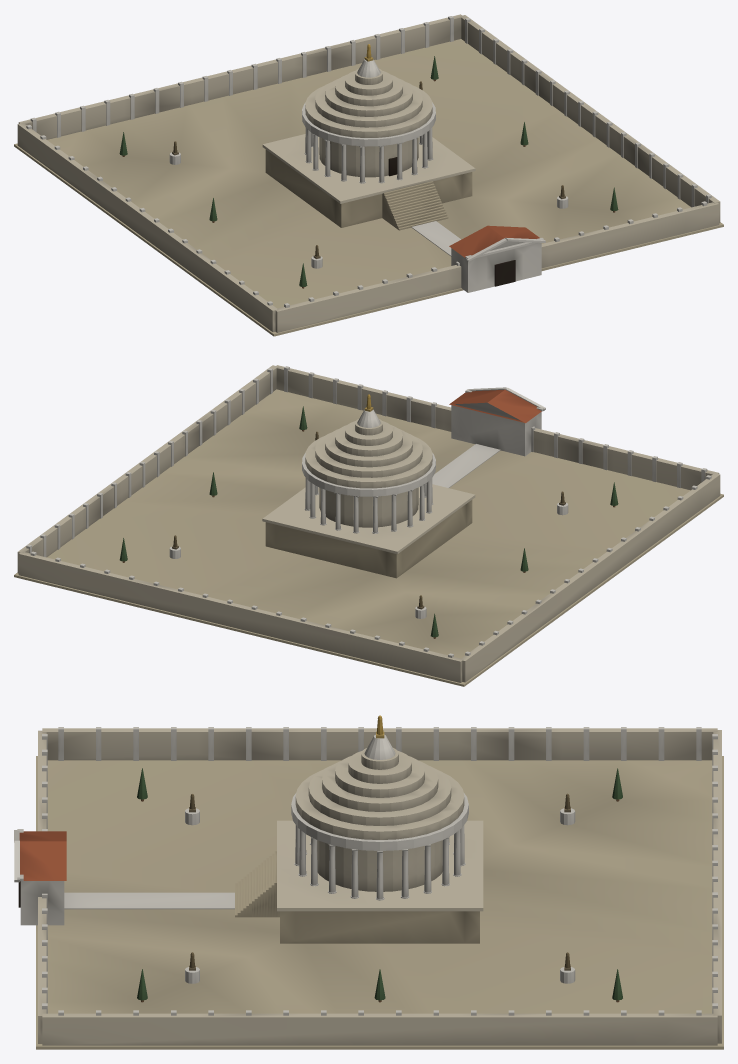
The model's file is sema.glb.
3 views of the same model, one above another, from view 1: azimuth 30°, elevation 25°; view 2: azimuth 150°, elevation 25°; view 3: azimuth 270°, elevation 25° (orthographic). The views are drawn at different scales.
Visible parts, largest first — view 1: p0_precinct, p1_mausoleum, p2_roof; view 2: p0_precinct, p1_mausoleum, p2_roof; view 3: p0_precinct, p1_mausoleum, p2_roof.
Boxes of the visible parts, bbox=[...] form: p0_precinct: bbox=[14, 14, 723, 336]; p1_mausoleum: bbox=[262, 127, 475, 230]; p2_roof: bbox=[119, 44, 618, 288]; p0_precinct: bbox=[14, 365, 723, 686]; p1_mausoleum: bbox=[262, 478, 475, 578]; p2_roof: bbox=[119, 394, 618, 638]; p0_precinct: bbox=[14, 727, 723, 1049]; p1_mausoleum: bbox=[235, 820, 483, 943]; p2_roof: bbox=[137, 715, 622, 1002].
Size of the model in its own units: 110 by 33.31 by 114.
